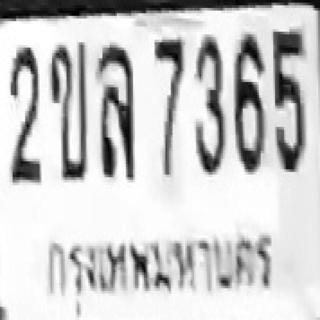A02: (48, 41, 87, 178)
A36: (95, 42, 135, 177)
N02: (8, 46, 40, 184)
N03: (193, 34, 226, 175)
N05: (272, 29, 304, 169)
N06: (233, 32, 265, 172)
N07: (153, 37, 183, 177), (153, 37, 183, 156), (153, 37, 183, 130)
P04: (39, 229, 278, 301)
